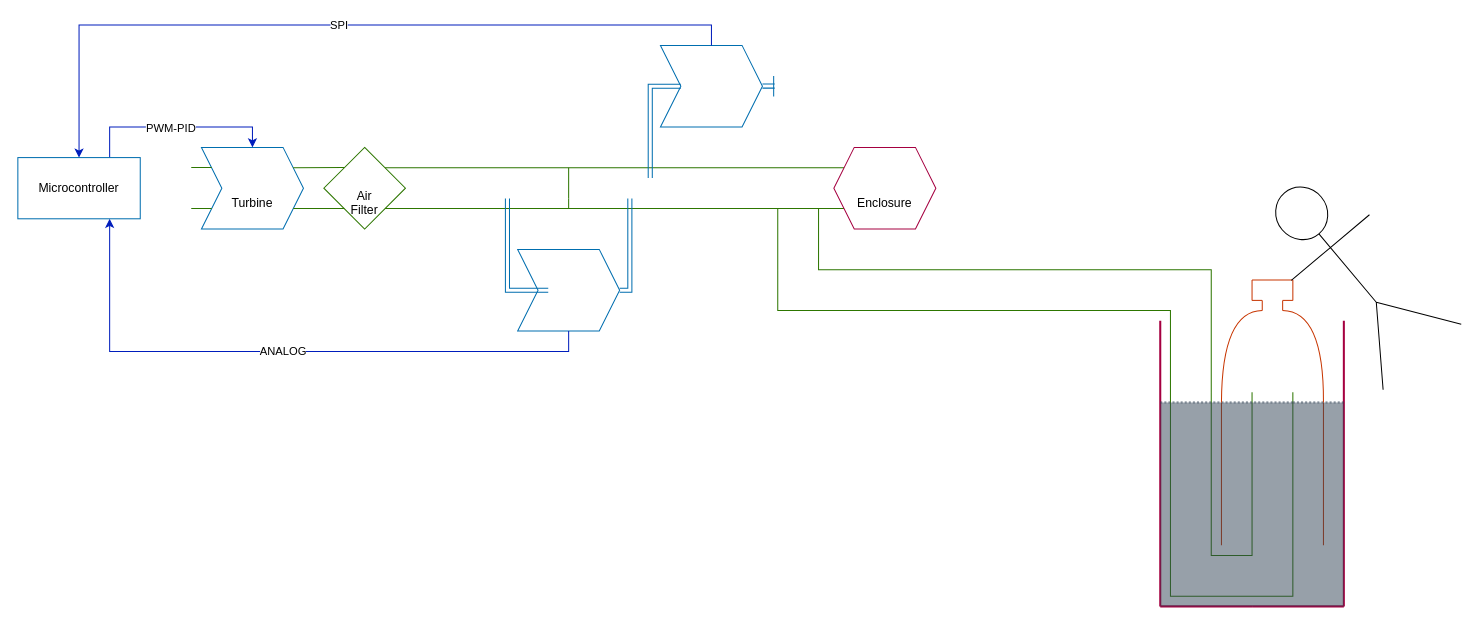
Some shapes in this 1480 by 626 pixel diagram are drawn without their labels. Here are the shapes that lost their labels. From the top down, the centre of each, then its label:
At [710,85]: "Pressure Sensor".
At [568,289]: "Calibrated flowrate sensor".
